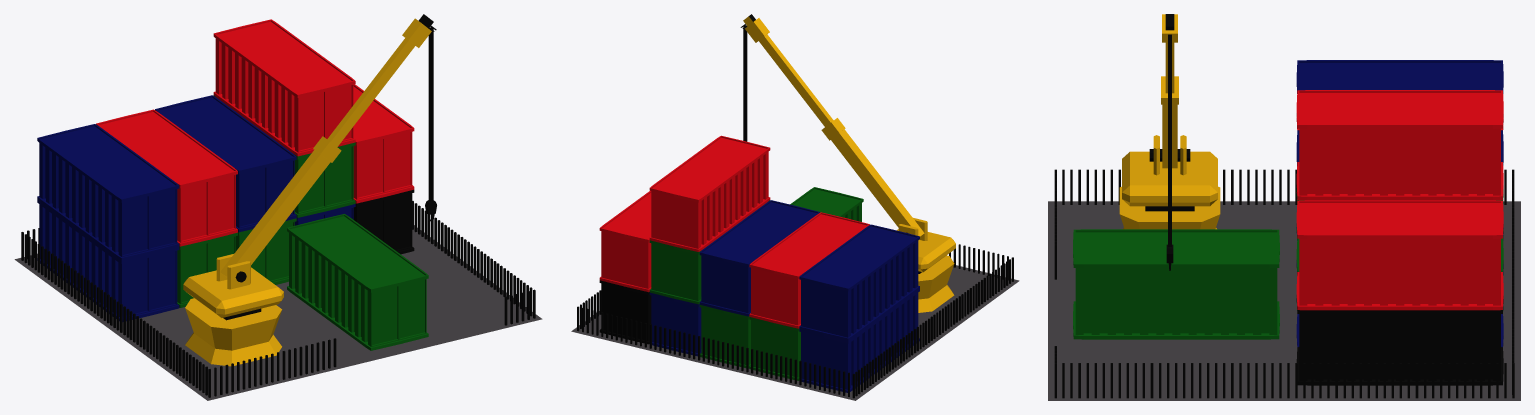
File: 1x1 Industry Containers.fbx
The picture shows the model from 3 angles, left to right: view 1: azimuth 30°, elevation 25°; view 2: azimuth 150°, elevation 25°; view 3: azimuth 270°, elevation 25°; orthographic projection. The views are drawn at different scales.
Visible parts, largest first — view 1: 1x1 Industry Containers; view 2: 1x1 Industry Containers; view 3: 1x1 Industry Containers.
Part boxes in pixels (x1=…): 1x1 Industry Containers: x1=14, y1=14, x2=542, y2=400; 1x1 Industry Containers: x1=571, y1=14, x2=1019, y2=400; 1x1 Industry Containers: x1=1048, y1=14, x2=1520, y2=400.
Size of the model in its own units: 1 by 0.8096 by 1.
